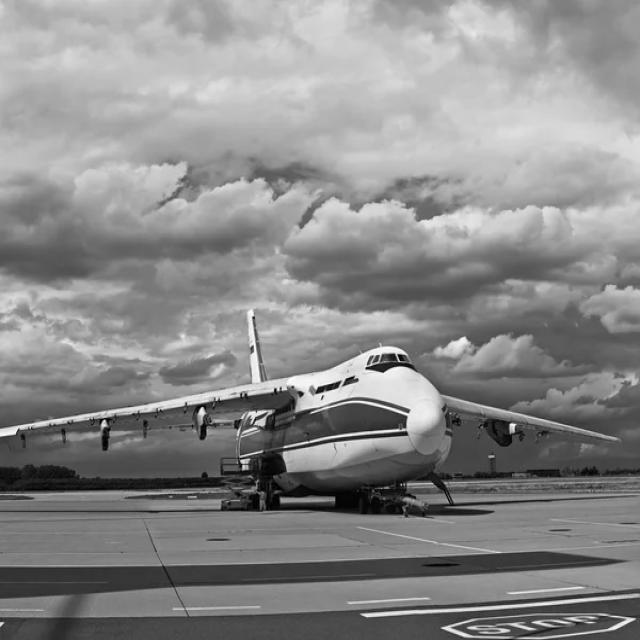Aircraft: (1, 331, 622, 524)
